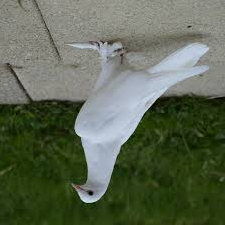pigeon: (62, 38, 211, 205)
